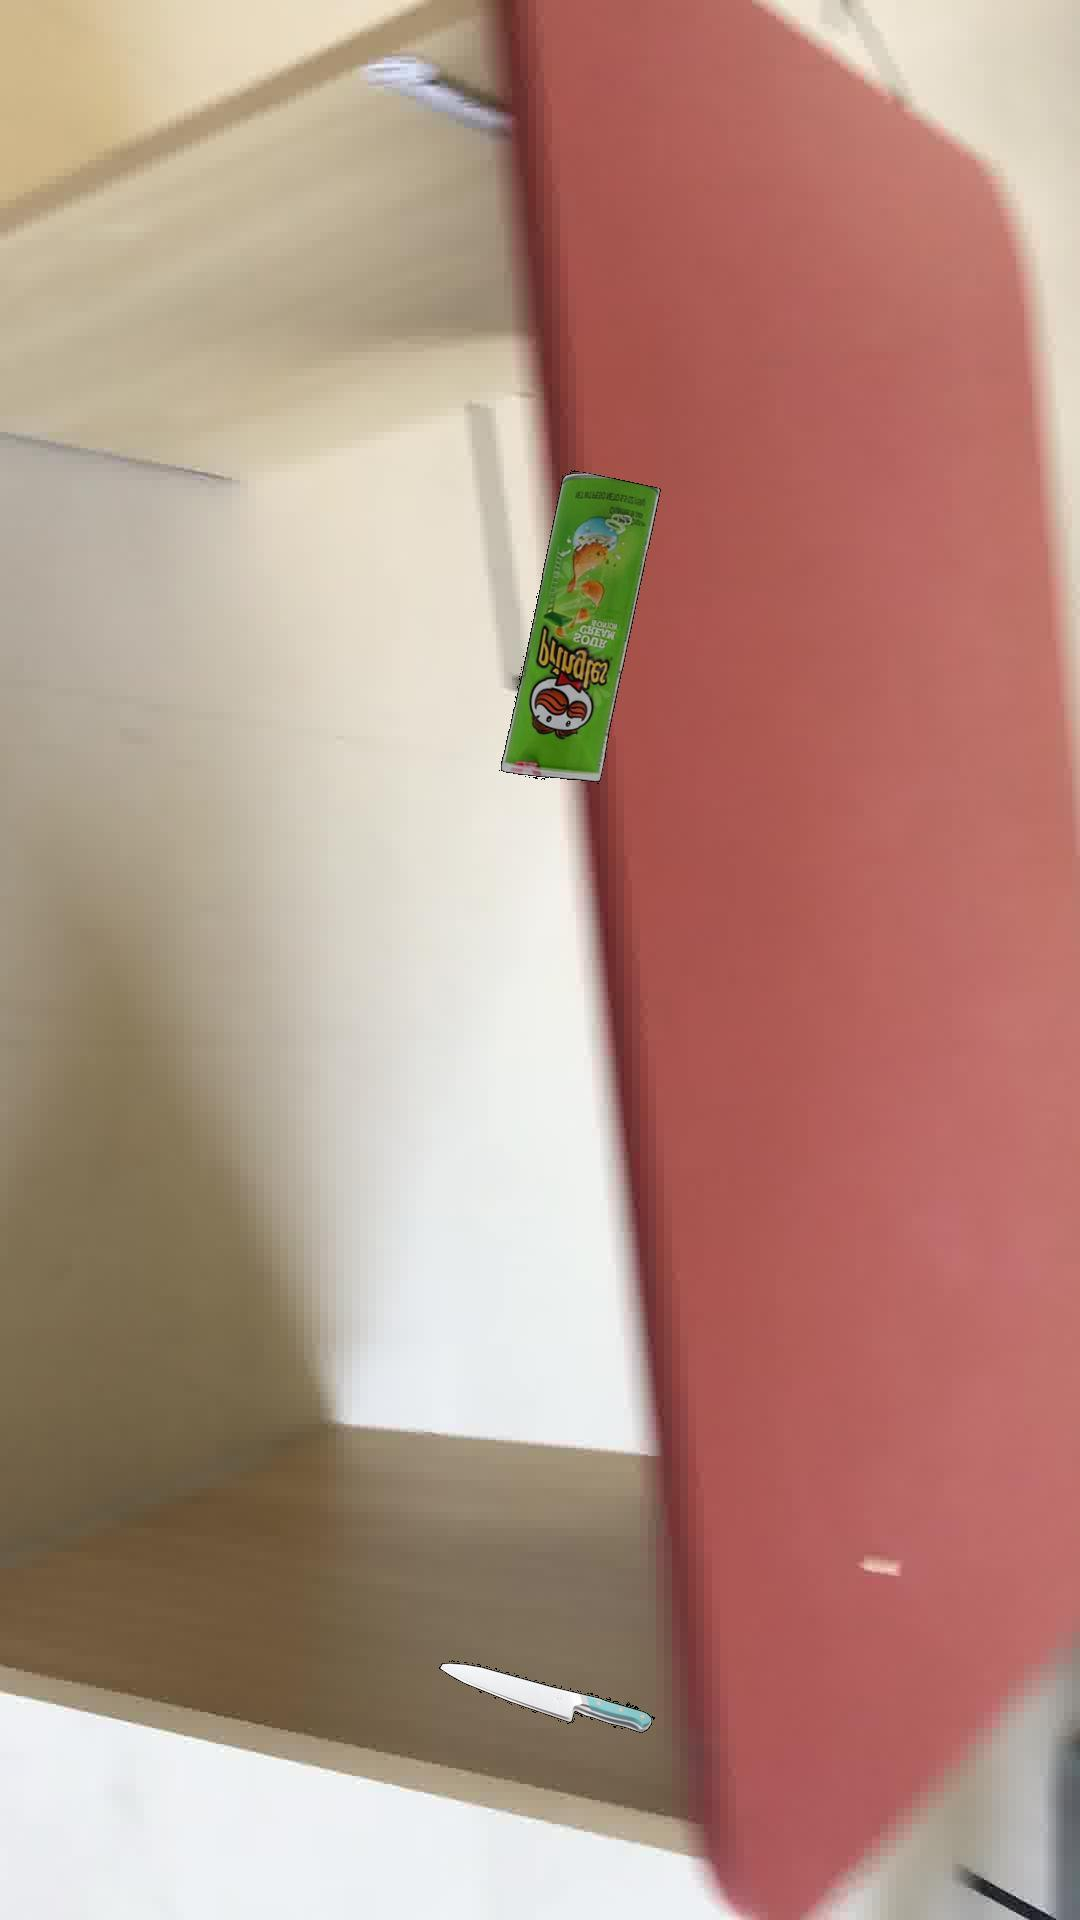knife: (438, 1662, 654, 1731)
pringles: (500, 471, 659, 781)
